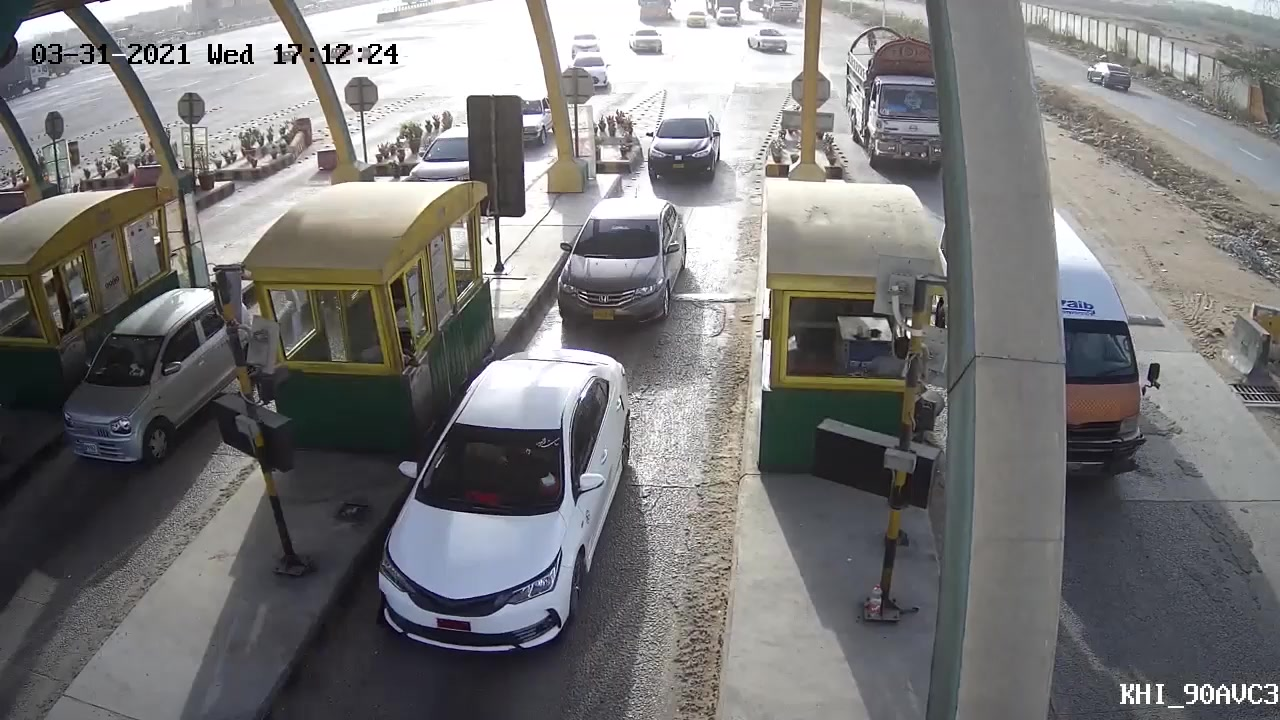F1: (351, 343, 642, 661), (543, 185, 699, 325), (629, 109, 729, 177)
